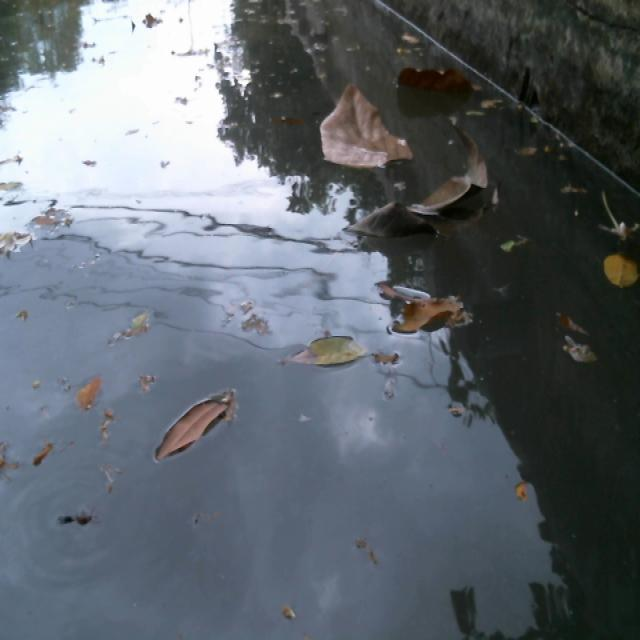Big-leaf: (342, 128, 495, 247), (317, 78, 415, 183), (378, 275, 478, 344), (400, 64, 475, 115)
Small-leaf: (147, 387, 242, 473), (282, 315, 390, 376), (551, 303, 601, 398), (603, 246, 640, 310), (389, 22, 431, 58), (74, 375, 108, 412), (504, 239, 535, 267)
